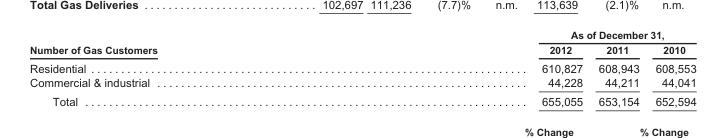table: (29, 28, 695, 107)
table column: (29, 28, 348, 107), (348, 28, 589, 107), (589, 28, 646, 107), (646, 28, 695, 107)
table column header: (29, 28, 695, 58)
table row: (29, 58, 695, 75), (29, 42, 695, 58), (29, 75, 695, 91), (29, 91, 695, 107), (29, 28, 695, 42)
table spanning cell: (29, 28, 348, 58), (348, 28, 695, 42)
